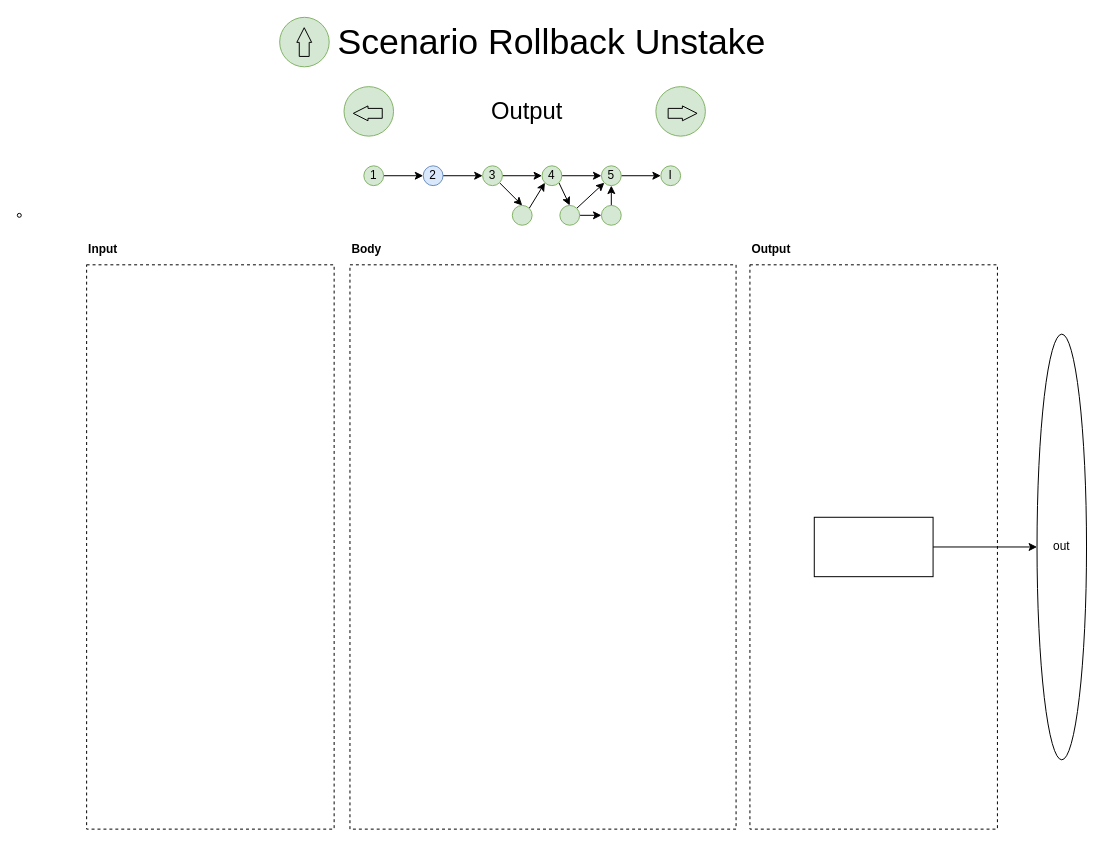
The diagram is 1104 pixels wide and 846 high, and some of its shapes have lost their labels. The shapes that lost their labels are listed below. From the top down, each one's box as (x1, y1, x2, y2) in pixels, then its label:
(511, 204, 532, 225): S1
(559, 204, 580, 225): T1
(600, 204, 621, 225): S2
(813, 516, 933, 577): Unstake rolled back
